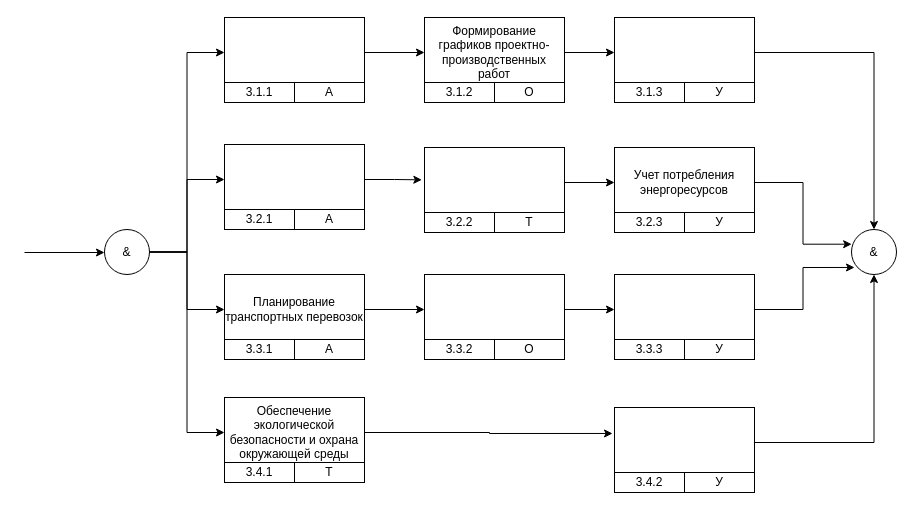
This 914x510 diagram has some shape labels left out. Each missing label, with the box of its shape:
Внешние и внутренние перевозки: (424, 274, 564, 344)
Обеспечение и доставка энергоресурсов: (424, 146, 564, 218)
Планирование капитального ремонта и обновления оборудования: (224, 16, 364, 88)
Планирование потребности в энергоресурсах: (224, 144, 364, 214)
Учет выбросов и сбросов: (614, 406, 754, 478)
Учет выполненных ремонтов: (614, 16, 754, 88)
Учет работы транспорта: (614, 274, 754, 344)
